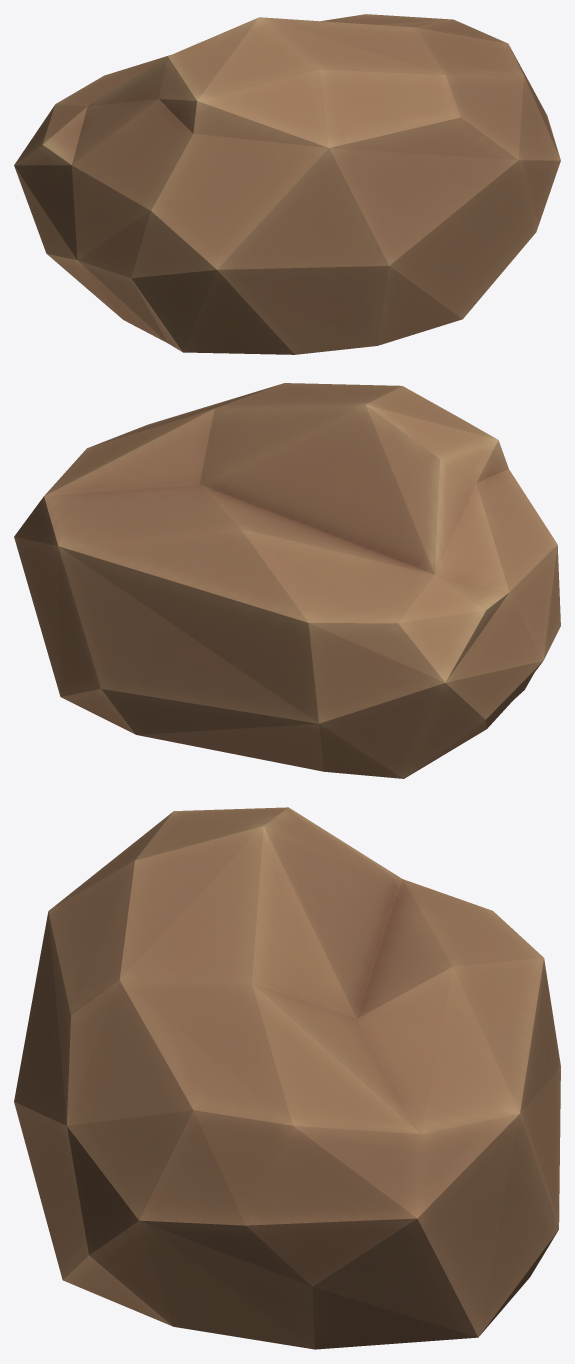
File: Rock_40.fbx
3 views of the same model, one above another, from view 1: azimuth 30°, elevation 25°; view 2: azimuth 150°, elevation 25°; view 3: azimuth 270°, elevation 25° (orthographic). The views are drawn at different scales.
Parts seen in each view (by area): view 1: Rock_40; view 2: Rock_40; view 3: Rock_40.
Part boxes in pixels (x1,y1,x2,y2): Rock_40: [14, 14, 560, 354]; Rock_40: [14, 383, 560, 778]; Rock_40: [14, 807, 560, 1349].
Bounding box in the file's own units: 31.65 × 24.35 × 18.22.
1 material, 1 textured.
